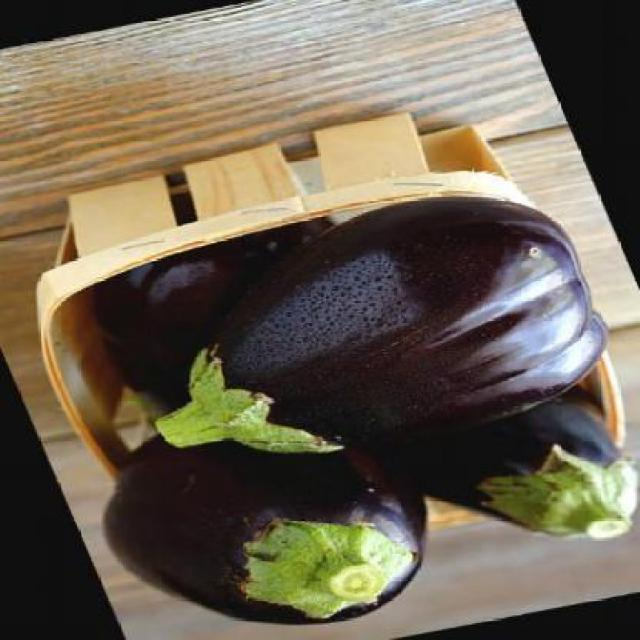eggplant: (149, 193, 613, 462), (102, 416, 434, 624), (380, 374, 638, 571)
